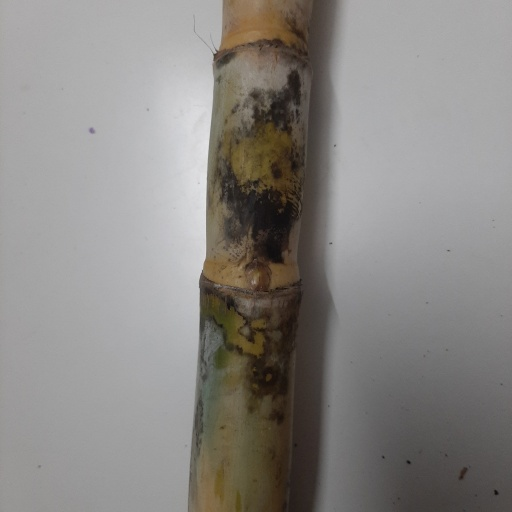Bud: (246, 264, 271, 292)
